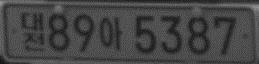3: (159, 15, 182, 54)
5: (134, 15, 157, 54)
7: (214, 15, 237, 55)
8: (186, 15, 209, 55), (47, 13, 70, 51)
9: (72, 12, 94, 52)
대전_V: (21, 11, 46, 52)
아: (98, 15, 123, 50)
